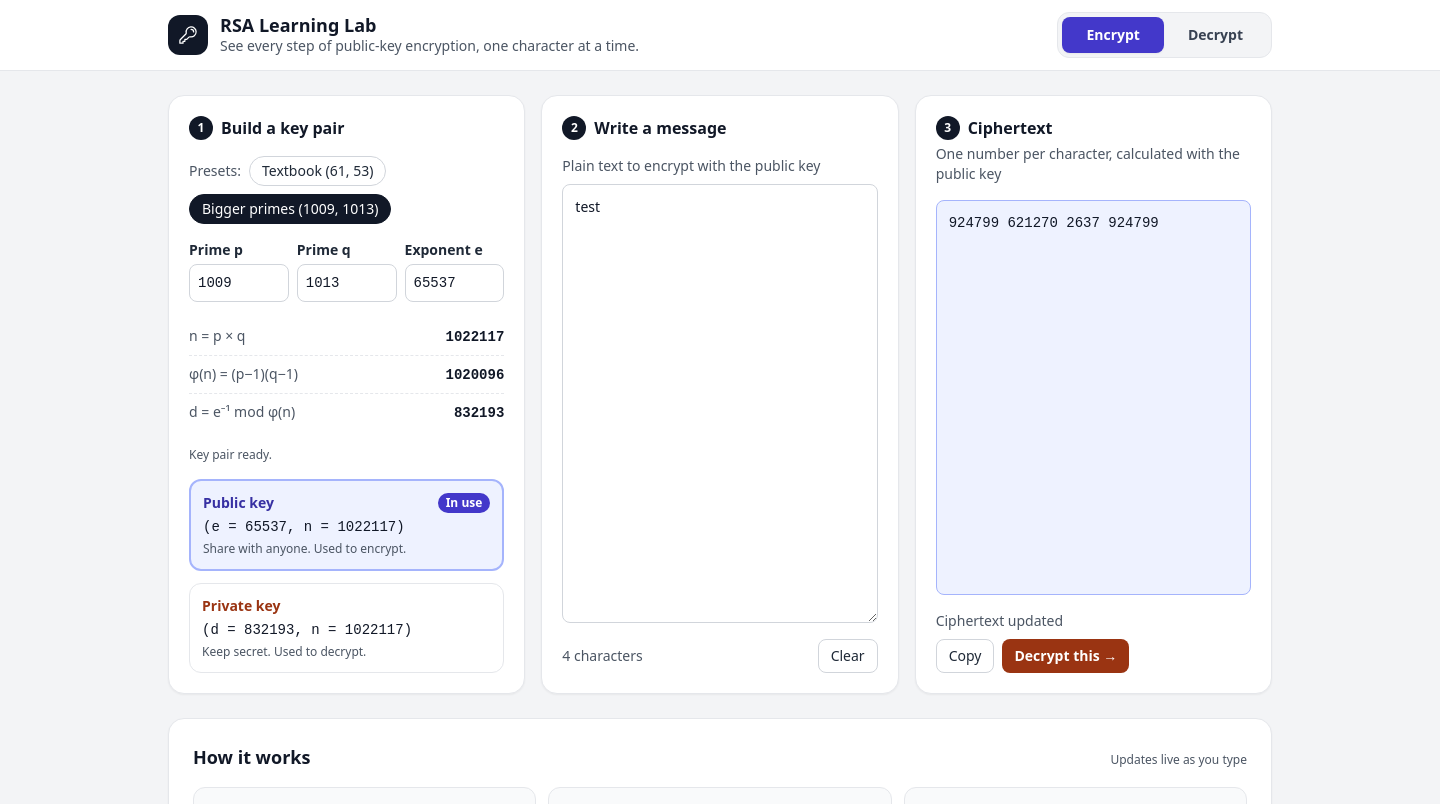
Test case: key presets and custom values › selecting the Textbook preset updates p, q, e and recalculates the derived values
Expected: the text "Key pair ready." is shown, x1=189 y1=446 x2=272 y2=463
Click the button "Textbook (61, 53)" at (318, 171), box x1=249 y1=156 x2=386 y2=186
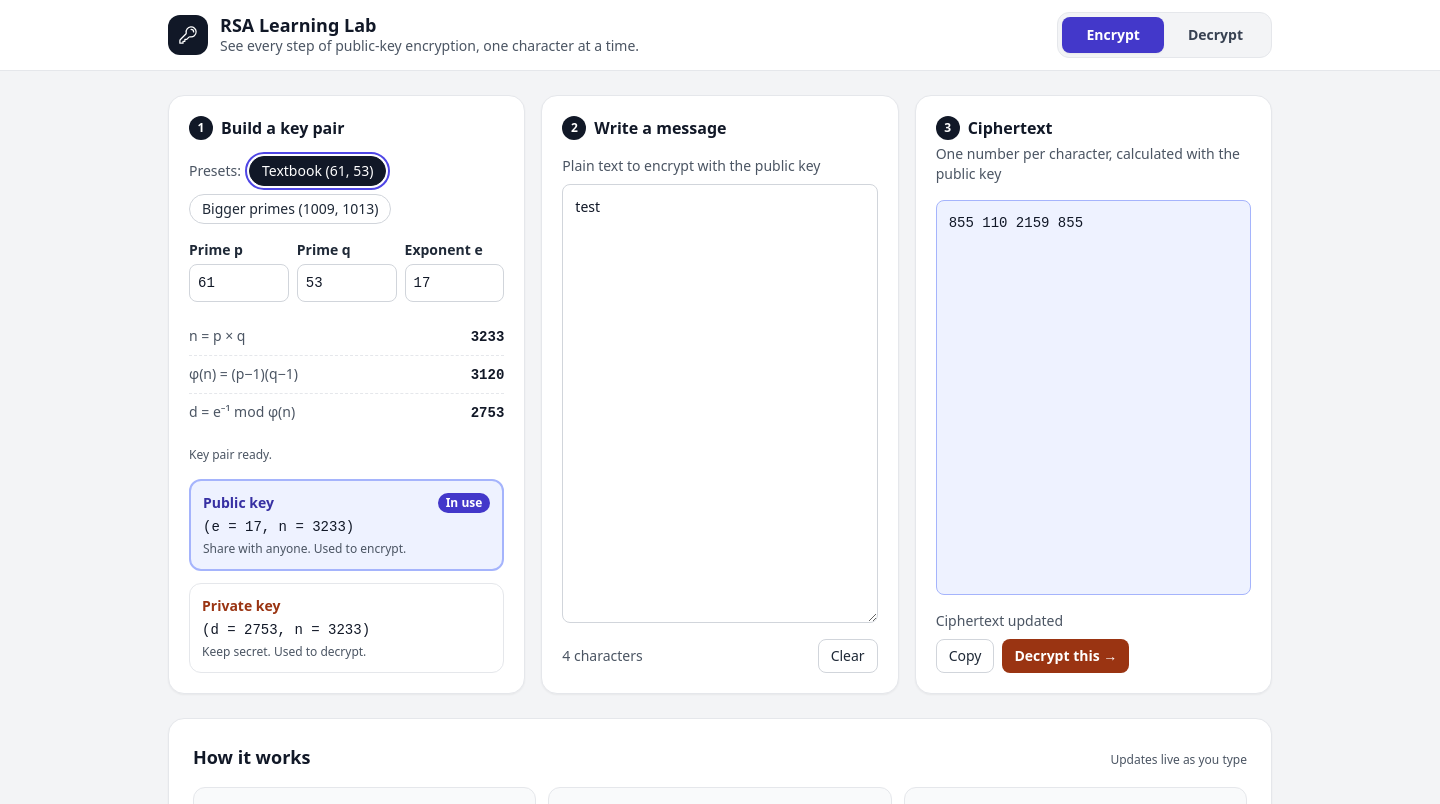
Now the field labelled "Prime p" holds "61", box x1=189 y1=264 x2=289 y2=302
Now the field labelled "Prime q" holds "53", box x1=297 y1=264 x2=397 y2=302
Now the field labelled "Exponent e" holds "17", box x1=404 y1=264 x2=504 y2=302
